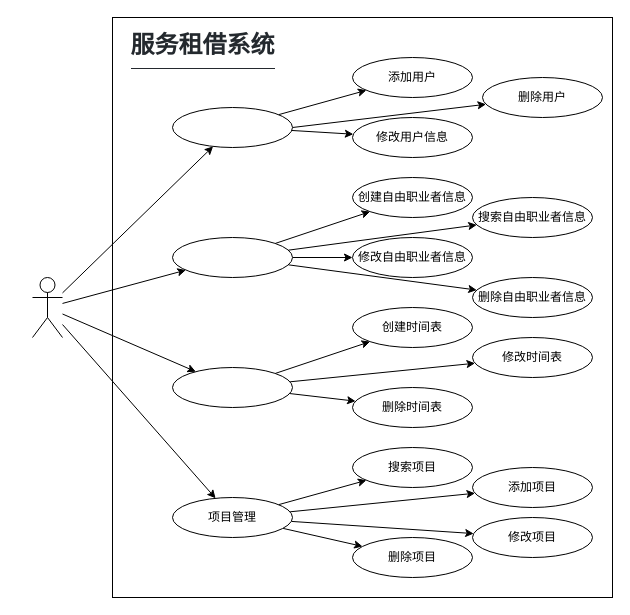
This 630x615 diagram has some shape labels left out. Each missing label, with the centre of its shape:
时间表管理: pixel 232 387
用户管理: pixel 232 127
系统管理员: pixel 47 307
自由职业者管理: pixel 232 257
